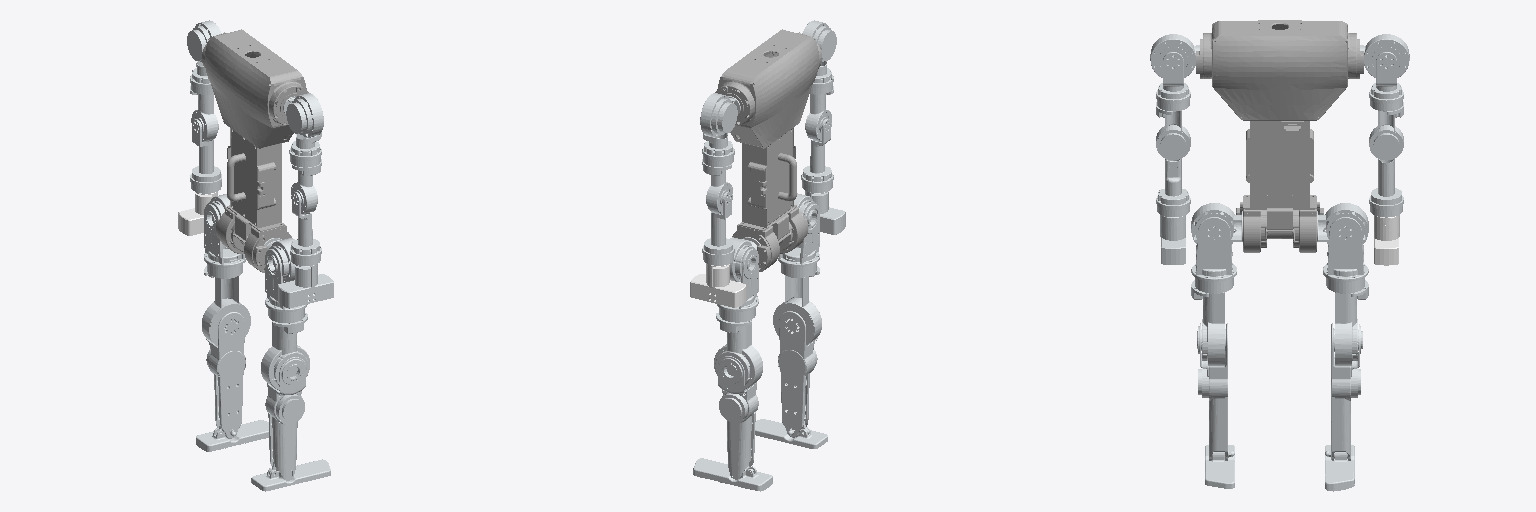
robot.urdf — 000-robot-motor-assy-1111(2).SLDASM:
<?xml version='1.0' encoding='utf-8'?>
<robot name="000-robot-motor-assy-1111(2).SLDASM">
  <link name="body_base">
    <inertial>
      <origin xyz="-0.00168899998099162 -4.75006958047743E-05 0.234566501307181" rpy="0 0 0" />
      <mass value="7.14613288528762" />
      <inertia ixx="0.0534088175979788" ixy="-4.6593132287917E-06" ixz="-0.000150986340576492" iyy="0.0268998415195477" iyz="-5.36719189752182E-05" izz="0.0344841145104636" />
      </inertial>
    <visual>
      <origin xyz="0 0 0" rpy="0 0 0" />
      <geometry>
        <mesh filename="meshes/body_base.STL" />
        </geometry>
      <material name="">
        <color rgba="0.752941176470588 0.752941176470588 0.752941176470588 1" />
        </material>
      </visual>
    <collision>
      <origin xyz="0 0 0" rpy="0 0 0" />
      <geometry>
        <mesh filename="meshes/body_base.STL" />
        </geometry>
      </collision>
    </link>
  <link name="L_buttock">
    <inertial>
      <origin xyz="-0.00819709342840121 0.000318208662025143 0.00252304988190288" rpy="0 0 0" />
      <mass value="0.716812635857969" />
      <inertia ixx="0.00128014305666732" ixy="-1.43073173567848E-05" ixz="2.90385709713522E-06" iyy="0.000912114057281933" iyz="-1.10748343344497E-07" izz="0.000793918800875051" />
      </inertial>
    <visual>
      <origin xyz="0 0 0" rpy="0 0 0" />
      <geometry>
        <mesh filename="meshes/L_buttock.STL" />
        </geometry>
      <material name="">
        <color rgba="0.898039215686275 0.917647058823529 0.929411764705882 1" />
        </material>
      </visual>
    <collision>
      <origin xyz="0 0 0" rpy="0 0 0" />
      <geometry>
        <mesh filename="meshes/L_buttock.STL" />
        </geometry>
      </collision>
    </link>
  <joint name="L_hip_y" type="continuous">
    <origin xyz="0.00525 -0.1572 0" rpy="-1.5707963267949 0.0387975271824028 0" />
    <parent link="body_base" />
    <child link="L_buttock" />
    <axis xyz="0 0 1" />
    </joint>
  <link name="L_leg">
    <inertial>
      <origin xyz="-0.002974071662666 0.0999923667862714 -0.00460277301524567" rpy="0 0 0" />
      <mass value="0.922507051557688" />
      <inertia ixx="0.00138275283840285" ixy="0.000156614413733596" ixz="-4.48198972624635E-06" iyy="0.00101558782916254" iyz="4.78607063861617E-06" izz="0.00138863041261466" />
      </inertial>
    <visual>
      <origin xyz="0 0 0" rpy="0 0 0" />
      <geometry>
        <mesh filename="meshes/L_leg.STL" />
        </geometry>
      <material name="">
        <color rgba="0.898039215686275 0.917647058823529 0.929411764705882 1" />
        </material>
      </visual>
    <collision>
      <origin xyz="0 0 0" rpy="0 0 0" />
      <geometry>
        <mesh filename="meshes/L_leg.STL" />
        </geometry>
      </collision>
    </link>
  <joint name="L_hip_x" type="continuous">
    <origin xyz="0 0 0" rpy="0 0 0" />
    <parent link="L_buttock" />
    <child link="L_leg" />
    <axis xyz="0.999247470344691 -0.0387877945974834 0" />
    </joint>
  <link name="L_thigh">
    <inertial>
      <origin xyz="-0.152975413159304 9.16682550709896E-07 -0.00192310101177517" rpy="0 0 0" />
      <mass value="0.79742290295527" />
      <inertia ixx="0.000928367022232089" ixy="4.72987865403325E-08" ixz="-5.04802948364781E-05" iyy="0.00170898550375536" iyz="4.19086194081958E-09" izz="0.00226111074590077" />
      </inertial>
    <visual>
      <origin xyz="0 0 0" rpy="0 0 0" />
      <geometry>
        <mesh filename="meshes/L_thigh.STL" />
        </geometry>
      <material name="">
        <color rgba="0.898039215686275 0.917647058823529 0.929411764705882 1" />
        </material>
      </visual>
    <collision>
      <origin xyz="0 0 0" rpy="0 0 0" />
      <geometry>
        <mesh filename="meshes/L_thigh.STL" />
        </geometry>
      </collision>
    </link>
  <joint name="L_hip_z" type="continuous">
    <origin xyz="0 0.135351856285756 0" rpy="0 0 -1.6095938539773" />
    <parent link="L_leg" />
    <child link="L_thigh" />
    <axis xyz="-1 0 0" />
    </joint>
  <link name="L_calf">
    <inertial>
      <origin xyz="-0.00221218926913685 0.128163697364005 -0.0015812007547766" rpy="0 0 0" />
      <mass value="1.01514022161973" />
      <inertia ixx="0.00569735691747697" ixy="0.000510336798374669" ixz="8.14248940411012E-06" iyy="0.000646036105963076" iyz="6.00188035468464E-05" izz="0.00538781385244594" />
      </inertial>
    <visual>
      <origin xyz="0 0 0" rpy="0 0 0" />
      <geometry>
        <mesh filename="meshes/L_calf.STL" />
        </geometry>
      <material name="">
        <color rgba="0.898039215686275 0.917647058823529 0.929411764705882 1" />
        </material>
      </visual>
    <collision>
      <origin xyz="0 0 0" rpy="0 0 0" />
      <geometry>
        <mesh filename="meshes/L_calf.STL" />
        </geometry>
      </collision>
    </link>
  <joint name="L_knee" type="continuous">
    <origin xyz="-0.16475 0 0.00650000000000001" rpy="1.5707963267949 -1.55913018940663 0" />
    <parent link="L_thigh" />
    <child link="L_calf" />
    <axis xyz="-0.999931951391002 -0.0116658727656043 0" />
    </joint>
  <link name="L_foot">
    <inertial>
      <origin xyz="-0.00479857742210568 -0.00929240520893895 -0.0174522370875667" rpy="0 0 0" />
      <mass value="0.458834684807861" />
      <inertia ixx="0.00140894155586573" ixy="-1.56888789287836E-05" ixz="2.5835729594436E-06" iyy="0.000629108468710886" iyz="-0.000136816296117936" izz="0.00104065859956583" />
      </inertial>
    <visual>
      <origin xyz="0 0 0" rpy="0 0 0" />
      <geometry>
        <mesh filename="meshes/L_foot.STL" />
        </geometry>
      <material name="">
        <color rgba="0.898039215686275 0.917647058823529 0.929411764705882 1" />
        </material>
      </visual>
    <collision>
      <origin xyz="0 0 0" rpy="0 0 0" />
      <geometry>
        <mesh filename="meshes/L_foot.STL" />
        </geometry>
      </collision>
    </link>
  <joint name="L_ankle_y" type="continuous">
    <origin xyz="0 0.300020415972035 0" rpy="1.57079632678526 0 -3.12992651620125" />
    <parent link="L_calf" />
    <child link="L_foot" />
    <axis xyz="-1 0 0" />
    </joint>
  <link name="R_buttock">
    <inertial>
      <origin xyz="0.00251606934185414 1.91491693335433E-09 0.00298061791756007" rpy="0 0 0" />
      <mass value="0.717874293135761" />
      <inertia ixx="0.000795076262097125" ixy="-2.58472142403005E-09" ixz="-2.80455504085126E-06" iyy="0.000912888945648462" iyz="-1.64876298053934E-10" izz="0.00128256631531027" />
      </inertial>
    <visual>
      <origin xyz="0 0 0" rpy="0 0 0" />
      <geometry>
        <mesh filename="meshes/R_buttock.STL" />
        </geometry>
      <material name="">
        <color rgba="0.898039215686275 0.917647058823529 0.929411764705882 1" />
        </material>
      </visual>
    <collision>
      <origin xyz="0 0 0" rpy="0 0 0" />
      <geometry>
        <mesh filename="meshes/R_buttock.STL" />
        </geometry>
      </collision>
    </link>
  <joint name="R_hip_y" type="continuous">
    <origin xyz="0 0.1572 0" rpy="1.5707963267949 0 -1.5707963267949" />
    <parent link="body_base" />
    <child link="R_buttock" />
    <axis xyz="-1 0 0" />
    </joint>
  <link name="R_hip">
    <inertial>
      <origin xyz="-0.00456993713036508 -0.0990892676971906 0.00186098370201654" rpy="0 0 0" />
      <mass value="0.929140993419456" />
      <inertia ixx="0.00139088984393278" ixy="-4.60842122590297E-06" ixz="4.66471347125917E-06" iyy="0.00103053675428894" iyz="0.000170373265670053" izz="0.00137453266270548" />
      </inertial>
    <visual>
      <origin xyz="0 0 0" rpy="0 0 0" />
      <geometry>
        <mesh filename="meshes/R_hip.STL" />
        </geometry>
      <material name="">
        <color rgba="0.898039215686275 0.917647058823529 0.929411764705882 1" />
        </material>
      </visual>
    <collision>
      <origin xyz="0 0 0" rpy="0 0 0" />
      <geometry>
        <mesh filename="meshes/R_hip.STL" />
        </geometry>
      </collision>
    </link>
  <joint name="R_hip_x" type="continuous">
    <origin xyz="0 0 0" rpy="0 0 0" />
    <parent link="R_buttock" />
    <child link="R_hip" />
    <axis xyz="0 0 1" />
    </joint>
  <link name="R_thigh">
    <inertial>
      <origin xyz="-0.153001423082827 -9.16713577793342E-07 -0.00195251154509687" rpy="0 0 0" />
      <mass value="0.798828442920692" />
      <inertia ixx="0.000930131700251728" ixy="6.35059492463892E-08" ixz="-5.09593709107673E-05" iyy="0.00171269143605417" iyz="1.97243744432103E-08" izz="0.00226615534608931" />
      </inertial>
    <visual>
      <origin xyz="0 0 0" rpy="0 0 0" />
      <geometry>
        <mesh filename="meshes/R_thigh.STL" />
        </geometry>
      <material name="">
        <color rgba="0.898039215686275 0.917647058823529 0.929411764705882 1" />
        </material>
      </visual>
    <collision>
      <origin xyz="0 0 0" rpy="0 0 0" />
      <geometry>
        <mesh filename="meshes/R_thigh.STL" />
        </geometry>
      </collision>
    </link>
  <joint name="R_hip_z" type="continuous">
    <origin xyz="0 -0.13525 0" rpy="1.5707963267949 0 1.5707963267949" />
    <parent link="R_hip" />
    <child link="R_thigh" />
    <axis xyz="-1 0 0" />
    </joint>
  <link name="R_calf">
    <inertial>
      <origin xyz="0.00209422858068073 0.12765174288707 -0.000719675140198883" rpy="0 0 0" />
      <mass value="1.01528348745858" />
      <inertia ixx="0.00569392011117491" ixy="-0.000530849224726063" ixz="-9.11057696682531E-07" iyy="0.000651162656583077" iyz="5.80759879743668E-05" izz="0.00538640134761818" />
      </inertial>
    <visual>
      <origin xyz="0 0 0" rpy="0 0 0" />
      <geometry>
        <mesh filename="meshes/R_calf.STL" />
        </geometry>
      <material name="">
        <color rgba="0.898039215686275 0.917647058823529 0.929411764705882 1" />
        </material>
      </visual>
    <collision>
      <origin xyz="0 0 0" rpy="0 0 0" />
      <geometry>
        <mesh filename="meshes/R_calf.STL" />
        </geometry>
      </collision>
    </link>
  <joint name="R_knee" type="continuous">
    <origin xyz="-0.16475 0 0.00650000000000001" rpy="1.5707963267949 1.55579745164248 3.14159265358946" />
    <parent link="R_thigh" />
    <child link="R_calf" />
    <axis xyz="-0.999887518980808 0.0149983127852693 0" />
    </joint>
  <link name="R_foot">
    <inertial>
      <origin xyz="-0.00368888331082423 -0.0203246465649679 -0.0179364027336445" rpy="0 0 0" />
      <mass value="0.550460500946463" />
      <inertia ixx="0.00178454226431903" ixy="-2.89108031455454E-05" ixz="-2.44610136506864E-06" iyy="0.000242083665010052" iyz="-1.22384833454679E-05" izz="0.00195782985486807" />
      </inertial>
    <visual>
      <origin xyz="0 0 0" rpy="0 0 0" />
      <geometry>
        <mesh filename="meshes/R_foot.STL" />
        </geometry>
      <material name="">
        <color rgba="0.898039215686275 0.917647058823529 0.929411764705882 1" />
        </material>
      </visual>
    <collision>
      <origin xyz="0 0 0" rpy="0 0 0" />
      <geometry>
        <mesh filename="meshes/R_foot.STL" />
        </geometry>
      </collision>
    </link>
  <joint name="R_ankle_y" type="continuous">
    <origin xyz="0 0.300033748101774 0" rpy="1.57079632679433 0 -0.0149988751526712" />
    <parent link="R_calf" />
    <child link="R_foot" />
    <axis xyz="-1 0 0" />
    </joint>
  <link name="L_clav">
    <inertial>
      <origin xyz="-0.00204971076662924 -2.52850121296166E-06 -0.000143593484141204" rpy="0 0 0" />
      <mass value="0.556580211071974" />
      <inertia ixx="0.000541431489019214" ixy="-8.47391309131692E-08" ixz="9.8097944969726E-06" iyy="0.000590741903833593" iyz="1.19695034926888E-08" izz="0.00091874948055789" />
      </inertial>
    <visual>
      <origin xyz="0 0 0" rpy="0 0 0" />
      <geometry>
        <mesh filename="meshes/L_clav.STL" />
        </geometry>
      <material name="">
        <color rgba="0.898039215686275 0.917647058823529 0.929411764705882 1" />
        </material>
      </visual>
    <collision>
      <origin xyz="0 0 0" rpy="0 0 0" />
      <geometry>
        <mesh filename="meshes/L_clav.STL" />
        </geometry>
      </collision>
    </link>
  <joint name="L_shoulder_y" type="continuous">
    <origin xyz="0.000261964373661255 -0.255 0.4500562784516" rpy="1.5707963267949 0 -1.5707963267949" />
    <parent link="body_base" />
    <child link="L_clav" />
    <axis xyz="-1 0 0" />
    </joint>
  <link name="L_scapula">
    <inertial>
      <origin xyz="0.00483000082259566 -0.0920797143660979 -0.005822542051574" rpy="0 0 0" />
      <mass value="0.413785106055008" />
      <inertia ixx="0.000436000953006356" ixy="1.75298963919669E-06" ixz="-3.56190480531948E-08" iyy="0.000296561627941788" iyz="7.70859507519229E-05" izz="0.000399427554871515" />
      </inertial>
    <visual>
      <origin xyz="0 0 0" rpy="0 0 0" />
      <geometry>
        <mesh filename="meshes/L_scapula.STL" />
        </geometry>
      <material name="">
        <color rgba="0.898039215686275 0.917647058823529 0.929411764705882 1" />
        </material>
      </visual>
    <collision>
      <origin xyz="0 0 0" rpy="0 0 0" />
      <geometry>
        <mesh filename="meshes/L_scapula.STL" />
        </geometry>
      </collision>
    </link>
  <joint name="L_shoulder_x" type="continuous">
    <origin xyz="0 0 0" rpy="0 0 0" />
    <parent link="L_clav" />
    <child link="L_scapula" />
    <axis xyz="0 0 -1" />
    </joint>
  <link name="L_uarm">
    <inertial>
      <origin xyz="-0.10163579177938 0.00377324438002548 -4.03410402005644E-06" rpy="0 0 0" />
      <mass value="0.277293520071397" />
      <inertia ixx="0.000146051204275245" ixy="1.18418123095809E-05" ixz="-1.2833281618558E-08" iyy="0.000404910973903621" iyz="-9.16450363895225E-08" izz="0.000319519397766818" />
      </inertial>
    <visual>
      <origin xyz="0 0 0" rpy="0 0 0" />
      <geometry>
        <mesh filename="meshes/L_uarm.STL" />
        </geometry>
      <material name="">
        <color rgba="0.898039215686275 0.917647058823529 0.929411764705882 1" />
        </material>
      </visual>
    <collision>
      <origin xyz="0 0 0" rpy="0 0 0" />
      <geometry>
        <mesh filename="meshes/L_uarm.STL" />
        </geometry>
      </collision>
    </link>
  <joint name="L_shoulder_z" type="continuous">
    <origin xyz="0 -0.114 0.000249999999999991" rpy="1.57186970427954 0 1.5707963267949" />
    <parent link="L_scapula" />
    <child link="L_uarm" />
    <axis xyz="-1 0 0" />
    </joint>
  <link name="L_farm">
    <inertial>
      <origin xyz="-0.00038437188890313 0.126015259322794 3.32331253788398E-06" rpy="0 0 0" />
      <mass value="0.333434347202915" />
      <inertia ixx="0.000593803796844833" ixy="8.41837354749469E-05" ixz="-9.13261797393152E-10" iyy="0.000240487078579545" iyz="-6.18128406949607E-08" izz="0.000605414769156374" />
      </inertial>
    <visual>
      <origin xyz="0 0 0" rpy="0 0 0" />
      <geometry>
        <mesh filename="meshes/L_farm.STL" />
        </geometry>
      <material name="">
        <color rgba="0.898039215686275 0.917647058823529 0.929411764705882 1" />
        </material>
      </visual>
    <collision>
      <origin xyz="0 0 0" rpy="0 0 0" />
      <geometry>
        <mesh filename="meshes/L_farm.STL" />
        </geometry>
      </collision>
    </link>
  <joint name="L_elbow_x" type="continuous">
    <origin xyz="-0.1155 0.00349999798375651 0" rpy="0 0.0010733774846464 1.5707963267949" />
    <parent link="L_uarm" />
    <child link="L_farm" />
    <axis xyz="-1 0 0" />
    </joint>
  <link name="L_finger">
    <inertial>
      <origin xyz="-0.108721956202611 -0.000612166557969074 4.7482908061669E-05" rpy="0 0 0" />
      <mass value="0.910556246110491" />
      <inertia ixx="0.00101572276497394" ixy="1.92362650516359E-05" ixz="3.91779241713697E-07" iyy="0.000760514975458036" iyz="3.28199815524034E-06" izz="0.001388715541467" />
      </inertial>
    <visual>
      <origin xyz="0 0 0" rpy="0 0 0" />
      <geometry>
        <mesh filename="meshes/L_finger.STL" />
        </geometry>
      <material name="">
        <color rgba="0.898039215686275 0.917647058823529 0.929411764705882 1" />
        </material>
      </visual>
    <collision>
      <origin xyz="0 0 0" rpy="0 0 0" />
      <geometry>
        <mesh filename="meshes/L_finger.STL" />
        </geometry>
      </collision>
    </link>
  <joint name="L_hand_x" type="continuous">
    <origin xyz="-0.00399999999999974 0.164 0" rpy="0.00107337749648937 0 -1.5707963267949" />
    <parent link="L_farm" />
    <child link="L_finger" />
    <axis xyz="-1 0 0" />
    </joint>
  <link name="R_clav">
    <inertial>
      <origin xyz="0.000405521407119671 0.00204974123027379 -5.37452159433682E-05" rpy="0 0 0" />
      <mass value="0.556581229681906" />
      <inertia ixx="0.000918749741821717" ixy="9.810826732849E-06" ixz="1.16981744373477E-08" iyy="0.000541432147974882" iyz="-8.47945687226876E-08" izz="0.000590741595741098" />
      </inertial>
    <visual>
      <origin xyz="0 0 0" rpy="0 0 0" />
      <geometry>
        <mesh filename="meshes/R_clav.STL" />
        </geometry>
      <material name="">
        <color rgba="0.898039215686275 0.917647058823529 0.929411764705882 1" />
        </material>
      </visual>
    <collision>
      <origin xyz="0 0 0" rpy="0 0 0" />
      <geometry>
        <mesh filename="meshes/R_clav.STL" />
        </geometry>
      </collision>
    </link>
  <joint name="R_shoulder_y" type="continuous">
    <origin xyz="0 0.255 0.45" rpy="3.14159265358979 0 0" />
    <parent link="body_base" />
    <child link="R_clav" />
    <axis xyz="0 -1 0" />
    </joint>
  <link name="R_scapula">
    <inertial>
      <origin xyz="0.00608814555196597 -0.004830134839302 0.0920232459747324" rpy="0 0 0" />
      <mass value="0.413787999130544" />
      <inertia ixx="0.000399429459425611" ixy="-4.55289355459629E-08" ixz="7.70829133188421E-05" iyy="0.000436002099519034" iyz="1.75380337901809E-06" izz="0.000296563380894703" />
      </inertial>
    <visual>
      <origin xyz="0 0 0" rpy="0 0 0" />
      <geometry>
        <mesh filename="meshes/R_scapula.STL" />
        </geometry>
      <material name="">
        <color rgba="0.898039215686275 0.917647058823529 0.929411764705882 1" />
        </material>
      </visual>
    <collision>
      <origin xyz="0 0 0" rpy="0 0 0" />
      <geometry>
        <mesh filename="meshes/R_scapula.STL" />
        </geometry>
      </collision>
    </link>
  <joint name="R_shoulder_x" type="continuous">
    <origin xyz="0 0 0" rpy="0 0 0" />
    <parent link="R_clav" />
    <child link="R_scapula" />
    <axis xyz="-1 0 0" />
    </joint>
  <link name="R_uarm">
    <inertial>
      <origin xyz="-0.102135713901053 -0.00377319271402149 -4.05228474770203E-06" rpy="0 0 0" />
      <mass value="0.277294237289419" />
      <inertia ixx="0.000146051525972404" ixy="-1.18420163495658E-05" ixz="-1.26703333537544E-08" iyy="0.00040491146644268" iyz="9.1647744515803E-08" izz="0.000319519768287632" />
      </inertial>
    <visual>
      <origin xyz="0 0 0" rpy="0 0 0" />
      <geometry>
        <mesh filename="meshes/R_uarm.STL" />
        </geometry>
      <material name="">
        <color rgba="0.898039215686275 0.917647058823529 0.929411764705882 1" />
        </material>
      </visual>
    <collision>
      <origin xyz="0 0 0" rpy="0 0 0" />
      <geometry>
        <mesh filename="meshes/R_uarm.STL" />
        </geometry>
      </collision>
    </link>
  <joint name="R_shoulder_z" type="continuous">
    <origin xyz="1.19643736613643E-05 0 0.113943721548401" rpy="1.56972294932056 1.5707963267949 0" />
    <parent link="R_scapula" />
    <child link="R_uarm" />
    <axis xyz="-1 0 0" />
    </joint>
  <link name="R_farm">
    <inertial>
      <origin xyz="-0.00346386776846992 0.125742816389133 7.82442342028844E-08" rpy="0 0 0" />
      <mass value="0.344651145281826" />
      <inertia ixx="0.00062811911276093" ixy="-8.66949561502986E-05" ixz="-5.89280156791326E-10" iyy="0.000256184138709623" iyz="1.23385046815639E-11" izz="0.000644697211656041" />
      </inertial>
    <visual>
      <origin xyz="0 0 0" rpy="0 0 0" />
      <geometry>
        <mesh filename="meshes/R_farm.STL" />
        </geometry>
      <material name="">
        <color rgba="0.898039215686275 0.917647058823529 0.929411764705882 1" />
        </material>
      </visual>
    <collision>
      <origin xyz="0 0 0" rpy="0 0 0" />
      <geometry>
        <mesh filename="meshes/R_farm.STL" />
        </geometry>
      </collision>
    </link>
  <joint name="R_elbow_x" type="continuous">
    <origin xyz="-0.116 0 0" rpy="0 -0.00107337747433267 1.5707963267949" />
    <parent link="R_uarm" />
    <child link="R_farm" />
    <axis xyz="-1 0 0" />
    </joint>
  <link name="R_finger">
    <inertial>
      <origin xyz="-0.109089592682188 0.000191477169552701 -0.000716371040221293" rpy="0 0 0" />
      <mass value="0.778168015229575" />
      <inertia ixx="0.0009586594975781" ixy="4.12416028505325E-07" ixz="1.92357889467291E-05" iyy="0.00132993739103914" iyz="2.62391954791746E-06" izz="0.000757572160591468" />
      </inertial>
    <visual>
      <origin xyz="0 0 0" rpy="0 0 0" />
      <geometry>
        <mesh filename="meshes/R_finger.STL" />
        </geometry>
      <material name="">
        <color rgba="1 1 1 1" />
        </material>
      </visual>
    <collision>
      <origin xyz="0 0 0" rpy="0 0 0" />
      <geometry>
        <mesh filename="meshes/R_finger.STL" />
        </geometry>
      </collision>
    </link>
  <joint name="R_hand_x" type="continuous">
    <origin xyz="0 0.164 0" rpy="1.5707963267949 0 -1.5707963267949" />
    <parent link="R_farm" />
    <child link="R_finger" />
    <axis xyz="-1 0 0" />
    </joint>
  </robot>

--- Facts derived from the render (not from the file) ---
3 views of the same robot in one strip: view 1: azimuth 30°, elevation 25°; view 2: azimuth 150°, elevation 25°; view 3: azimuth 270°, elevation 25° (orthographic).
Robot: 000-robot-motor-assy-1111(2).SLDASM — 21 links, 20 joints (20 continuous); root link body_base; default pose: all joints at 0.
Links seen in each view (by area): view 1: body_base, R_calf, L_calf, L_thigh, L_finger, R_thigh, R_hip, L_leg, R_farm, L_clav, L_farm, L_foot (+8 smaller); view 2: body_base, L_calf, R_calf, R_thigh, R_finger, L_thigh, R_hip, L_leg, R_foot, R_farm, R_clav, L_farm (+8 smaller); view 3: body_base, L_leg, R_hip, R_calf, L_calf, R_thigh, L_thigh, L_scapula, R_scapula, R_farm, L_farm, R_uarm (+9 smaller).
Link boxes in pixels (left/top/right/bottom): body_base: left=202, top=29, right=308, bottom=272; R_calf: left=206, top=312, right=245, bottom=438; L_calf: left=265, top=357, right=306, bottom=480; L_thigh: left=261, top=325, right=309, bottom=390; L_finger: left=278, top=264, right=333, bottom=307; R_thigh: left=202, top=276, right=250, bottom=345; R_hip: left=204, top=204, right=245, bottom=277; L_leg: left=265, top=249, right=307, bottom=333; R_farm: left=190, top=119, right=221, bottom=193; L_clav: left=283, top=93, right=323, bottom=136; L_farm: left=290, top=192, right=321, bottom=265; L_foot: left=251, top=459, right=330, bottom=491; body_base: left=715, top=29, right=821, bottom=271; L_calf: left=778, top=311, right=817, bottom=437; R_calf: left=718, top=356, right=758, bottom=479; R_thigh: left=714, top=320, right=762, bottom=389; R_finger: left=690, top=263, right=746, bottom=307; L_thigh: left=773, top=275, right=821, bottom=344; R_hip: left=716, top=248, right=758, bottom=332; L_leg: left=778, top=204, right=819, bottom=277; R_foot: left=693, top=458, right=772, bottom=491; R_farm: left=702, top=191, right=734, bottom=265; R_clav: left=700, top=93, right=740, bottom=136; L_farm: left=801, top=119, right=833, bottom=192; body_base: left=1196, top=20, right=1363, bottom=252; L_leg: left=1191, top=217, right=1236, bottom=299; R_hip: left=1323, top=217, right=1368, bottom=299; R_calf: left=1331, top=323, right=1360, bottom=460; L_calf: left=1198, top=323, right=1227, bottom=460; R_thigh: left=1335, top=292, right=1362, bottom=365; L_thigh: left=1197, top=292, right=1224, bottom=365; L_scapula: left=1156, top=52, right=1190, bottom=117; R_scapula: left=1369, top=52, right=1403, bottom=117; R_farm: left=1369, top=159, right=1403, bottom=217; L_farm: left=1156, top=159, right=1190, bottom=216; R_uarm: left=1369, top=111, right=1403, bottom=160.
Bounding box of the posed robot: 0.225 × 0.62 × 1.16 m (x, y, z).
Meshes: 21 distinct files referenced, 21 mesh visuals loaded (21 binary STL).